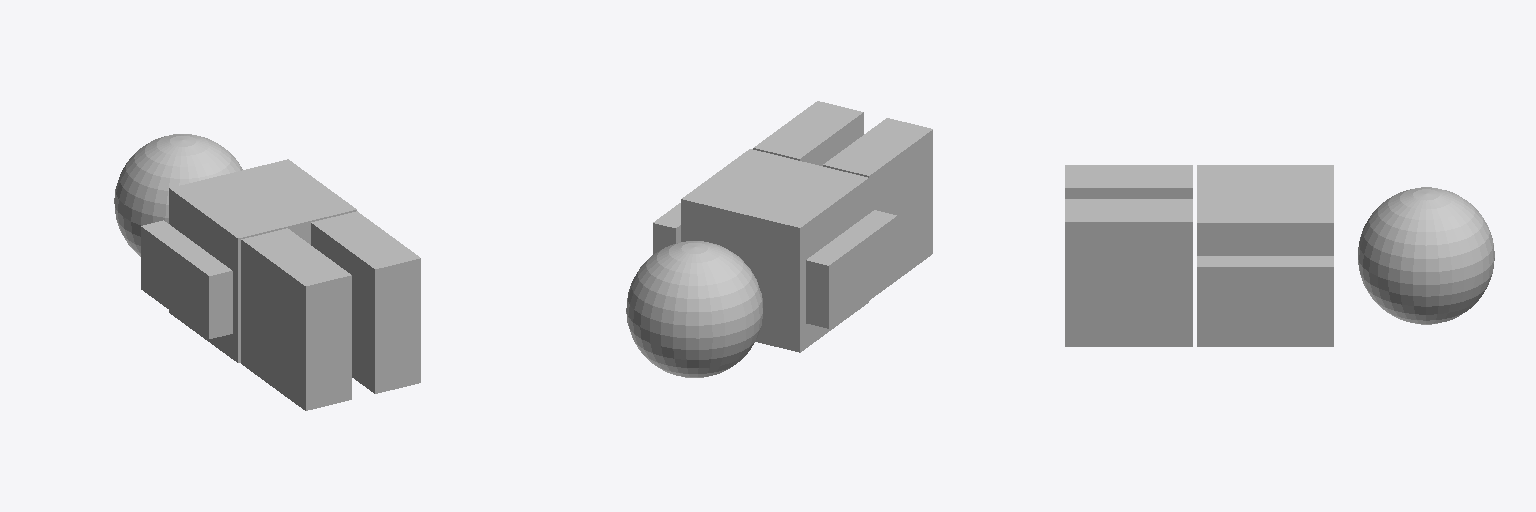
Rendered from sporty_robot_animation_000015.obj.
3 renders of one model, left to right at view 1: azimuth 30°, elevation 25°; view 2: azimuth 150°, elevation 25°; view 3: azimuth 270°, elevation 25°, orthographic.
Parts seen in each view (by area): view 1: Cube.002, Cube.001_Cube.005, Cube, Cube.004, Sphere.001; view 2: Cube, Sphere.001, Cube.002, Cube.004, Cube.001_Cube.005, Cube.003; view 3: Cube.001_Cube.005, Sphere.001, Cube, Cube.003, Cube.002.
Boxes of the visible parts, box(x1,y1,x2,y2) form: Cube.002: box(241, 228, 351, 410); Cube.001_Cube.005: box(311, 211, 420, 393); Cube: box(169, 159, 356, 362); Cube.004: box(141, 220, 232, 338); Sphere.001: box(114, 134, 242, 256); Cube: box(681, 149, 868, 352); Sphere.001: box(626, 241, 762, 377); Cube.002: box(823, 118, 932, 300); Cube.004: box(806, 210, 897, 328); Cube.001_Cube.005: box(753, 101, 863, 165); Cube.003: box(653, 203, 680, 254); Cube.001_Cube.005: box(1065, 199, 1192, 346); Sphere.001: box(1358, 187, 1494, 324); Cube: box(1197, 165, 1333, 346); Cube.003: box(1197, 256, 1333, 330); Cube.002: box(1065, 165, 1192, 198).
Size of the model in its own units: 0.76 by 0.514 by 1.61.